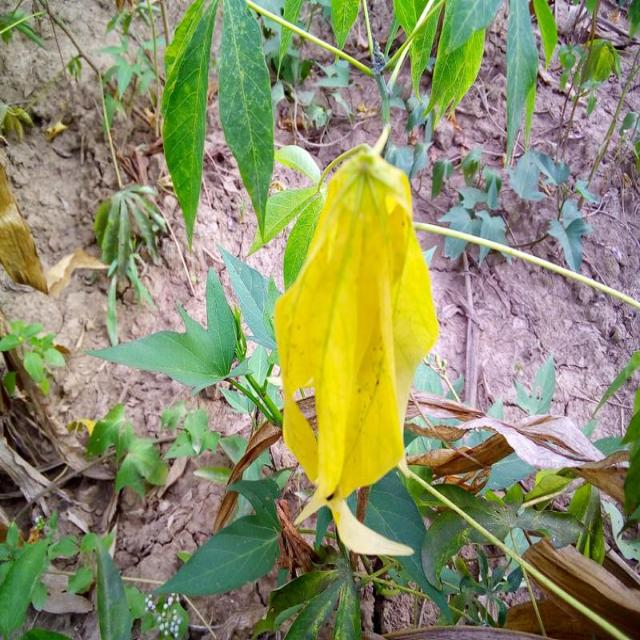cassava leaf: (272, 142, 440, 553), (160, 0, 218, 251), (216, 0, 274, 241)
